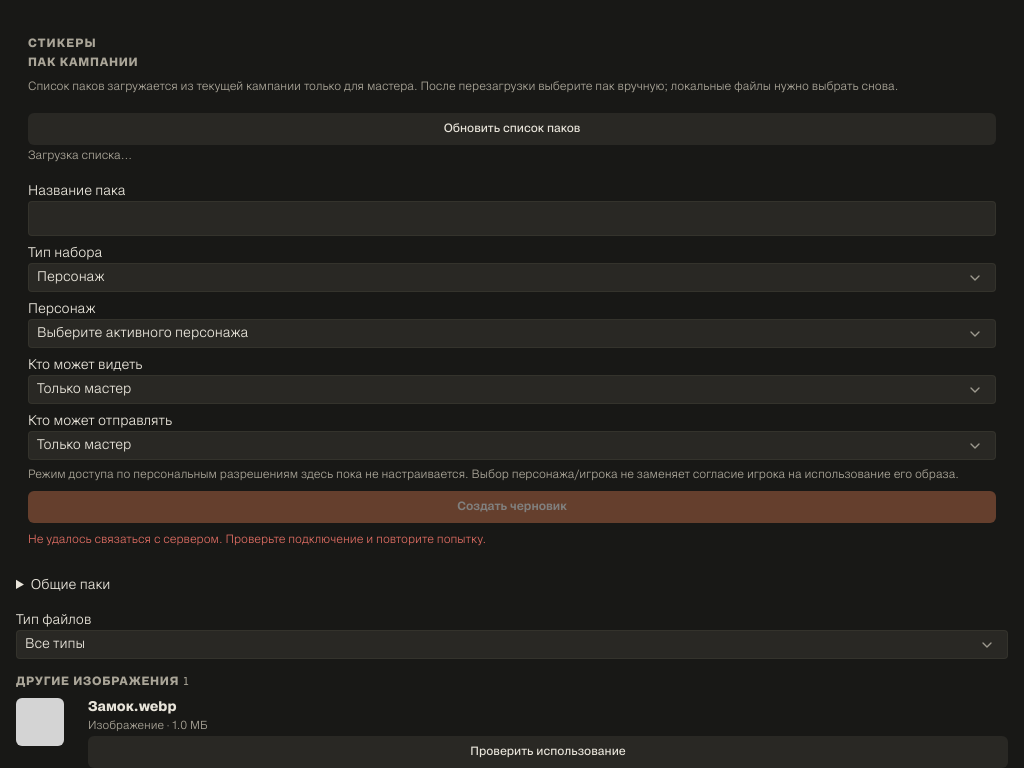
Test case: MediaPanel upload sections by role › keeps the row and explains a server deletion failure
(page scrolled)
Click the button "Проверить использование" at (548, 752), box top-left (88, 736), bottom-right (1008, 767)
(page scrolled)
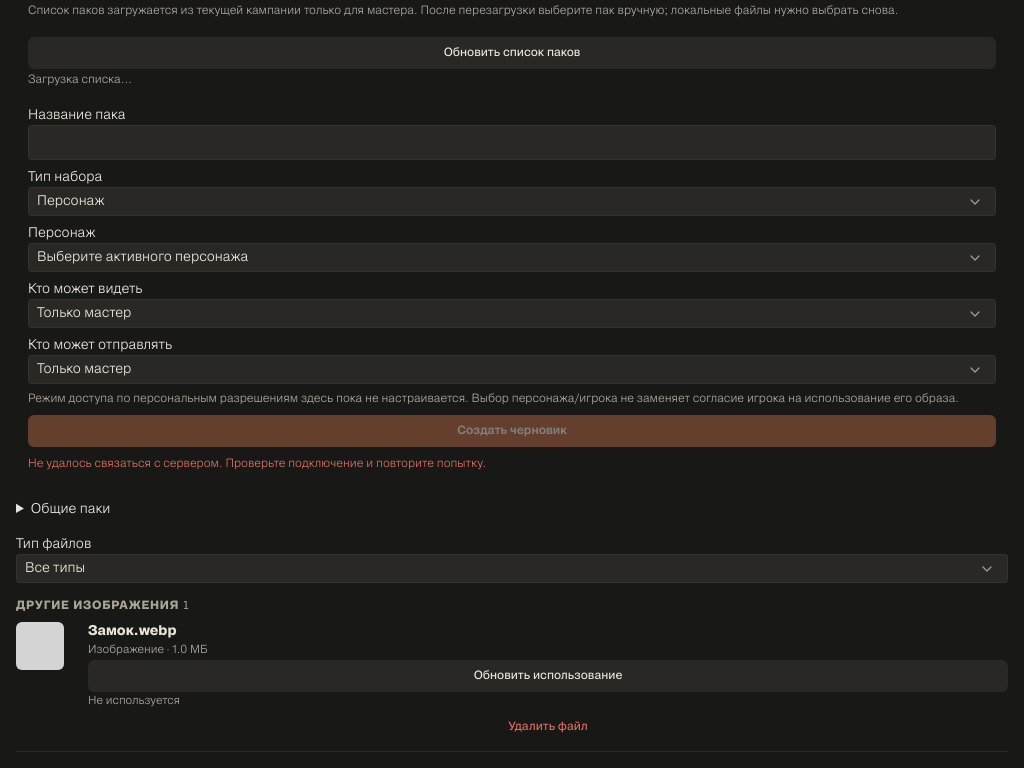
Click the button "Удалить файл" at (548, 727), box top-left (88, 711), bottom-right (1008, 743)
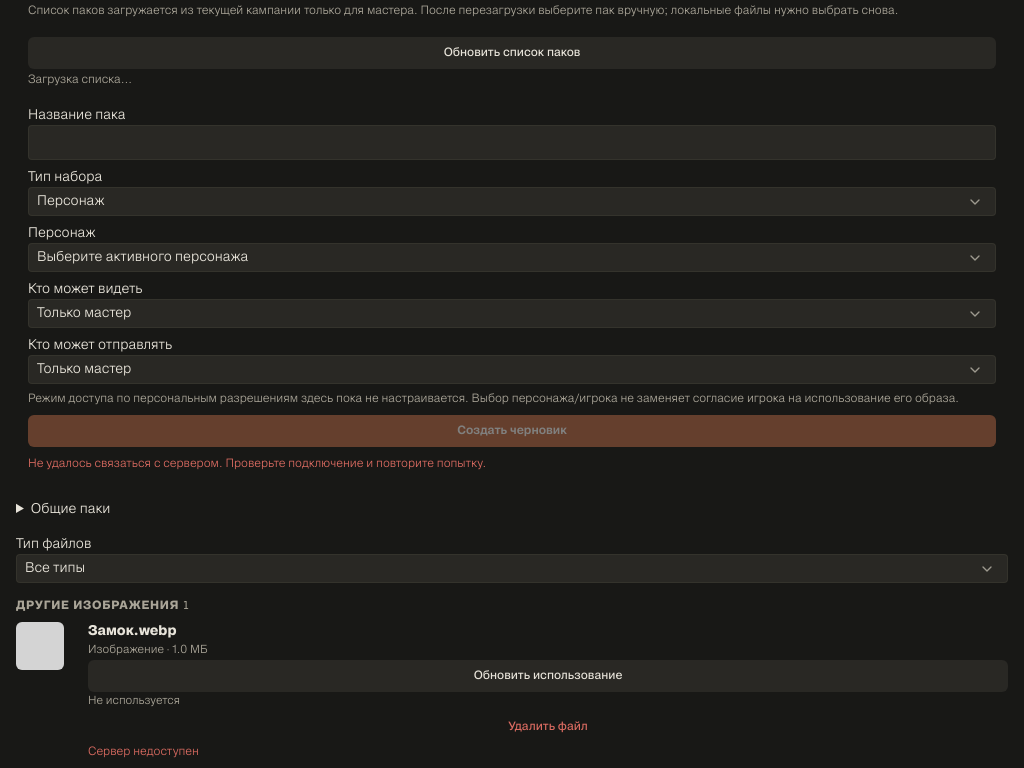
Expected: the text "Замок.webp" is shown, top-left (88, 625), bottom-right (176, 638)
Expected: the text "Сервер недоступен" is shown, top-left (88, 747), bottom-right (199, 757)
